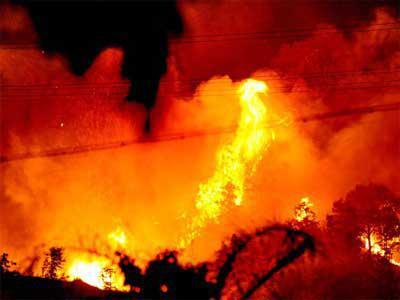fire: (180, 72, 286, 234), (50, 220, 146, 291), (351, 215, 398, 260), (295, 191, 323, 232)
